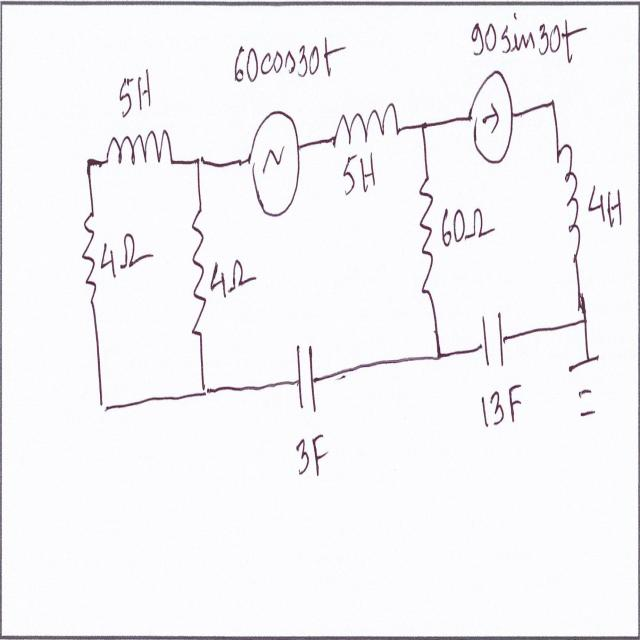ac_current: (246, 104, 302, 223)
capacitor: (477, 304, 513, 380), (293, 335, 320, 418)
current_source: (468, 59, 514, 170)
ground: (565, 346, 606, 434)
inductor: (551, 138, 585, 278), (329, 104, 404, 152), (104, 125, 173, 175)
resistor: (188, 199, 207, 353), (418, 166, 434, 309), (82, 197, 100, 314)
